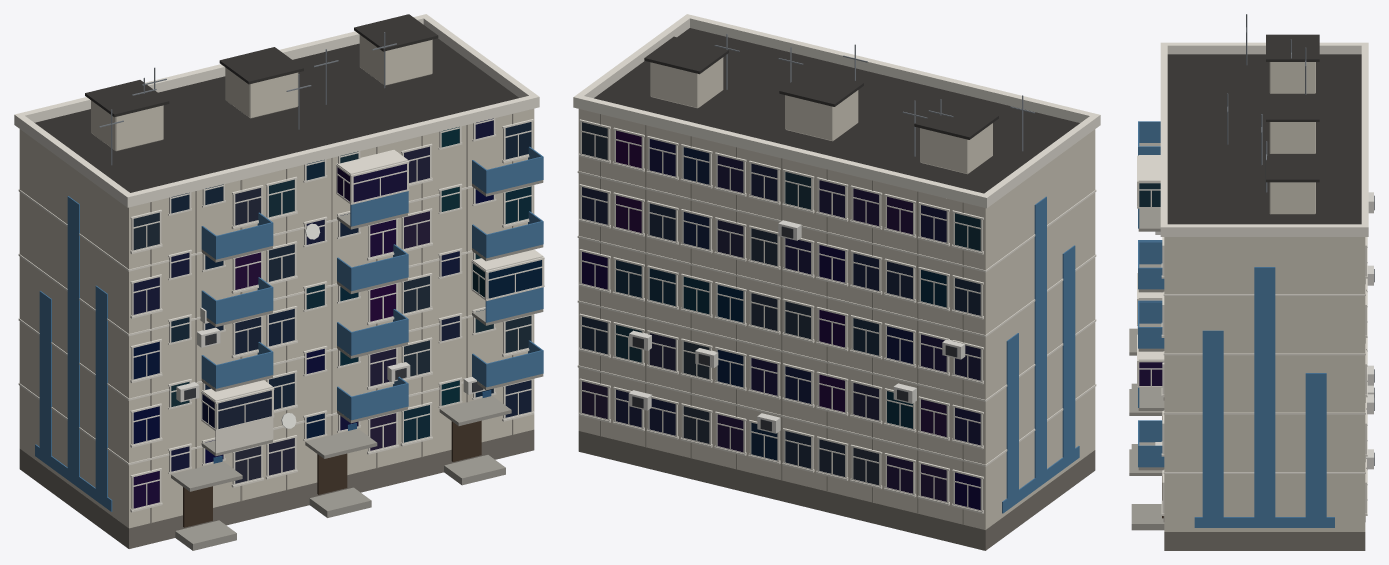
Rendered from block_a.glb.
3 views of the same model, side by side, from view 1: azimuth 30°, elevation 25°; view 2: azimuth 150°, elevation 25°; view 3: azimuth 270°, elevation 25° (orthographic). The views are drawn at different scales.
Parts seen in each view (by area): view 1: block_a; view 2: block_a; view 3: block_a.
Part boxes in pixels (x1,y1,x2,y2): block_a: [14, 14, 544, 550]; block_a: [573, 14, 1100, 550]; block_a: [1129, 14, 1374, 550].
Size of the model in its own units: 18.7 by 17.34 by 10.51.
